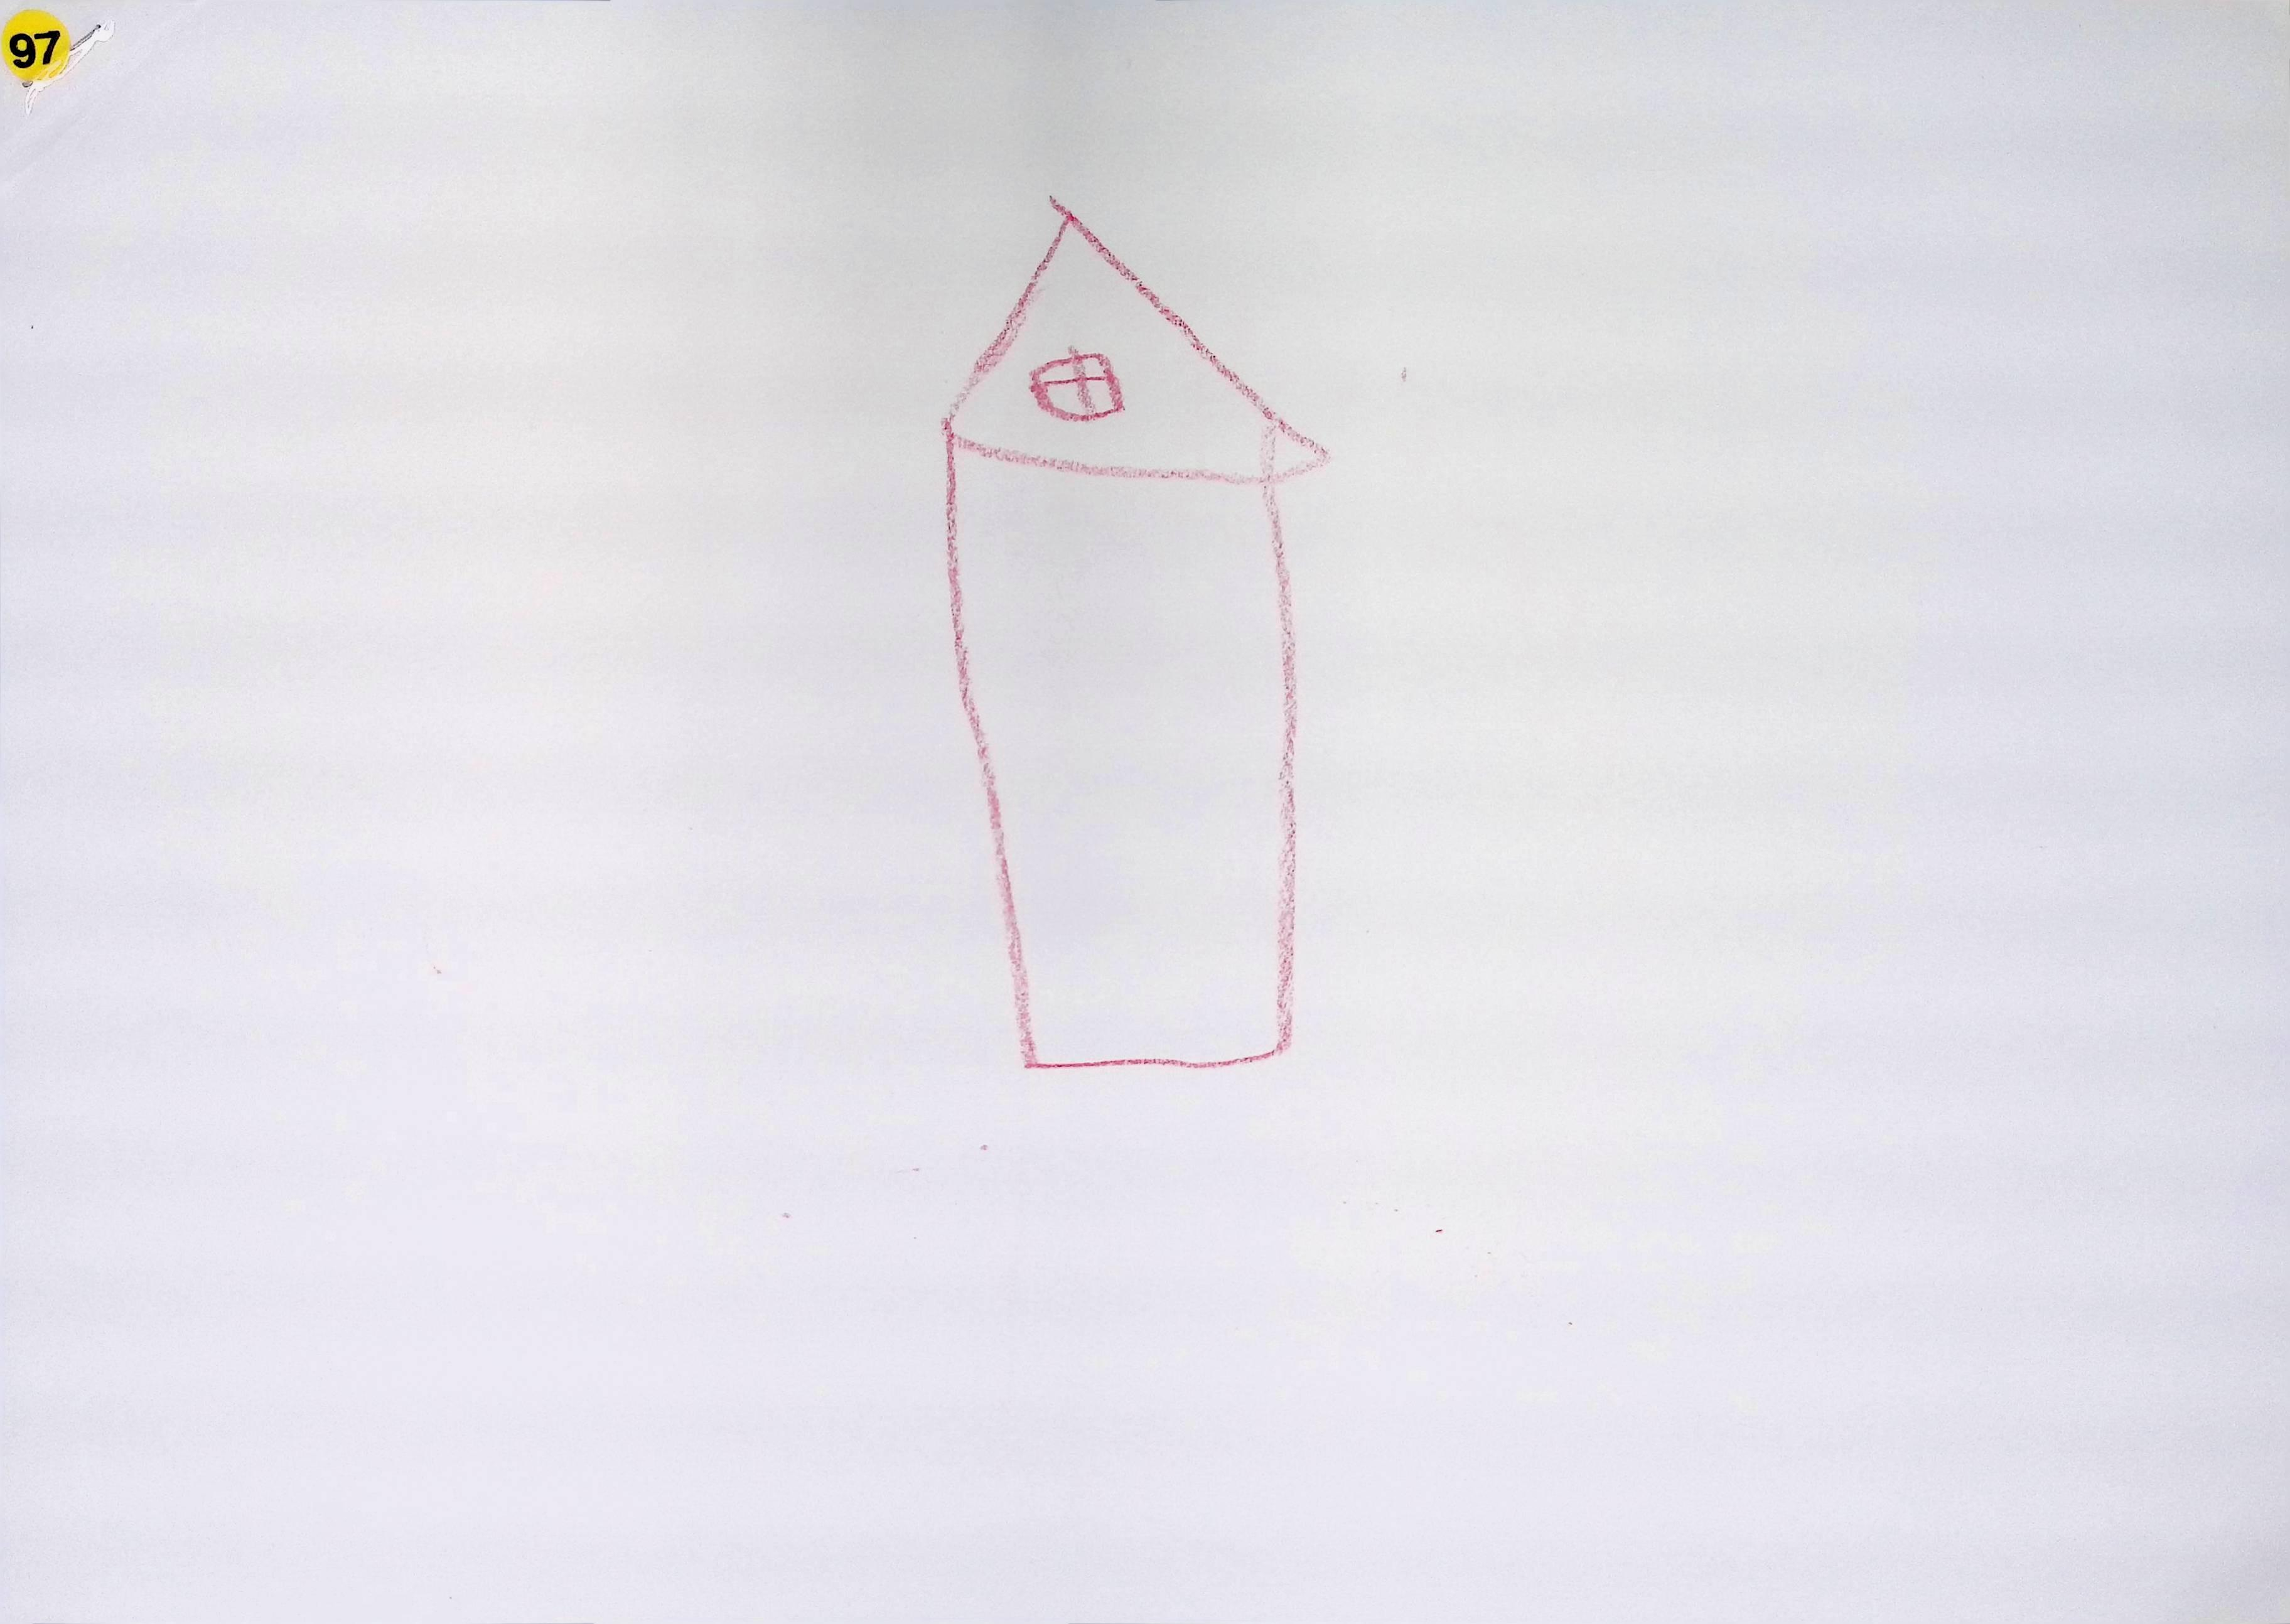house: (942, 200, 1327, 1067)
roof: (949, 211, 1325, 480)
wall: (951, 436, 1295, 1069)
window: (1030, 346, 1125, 418)
